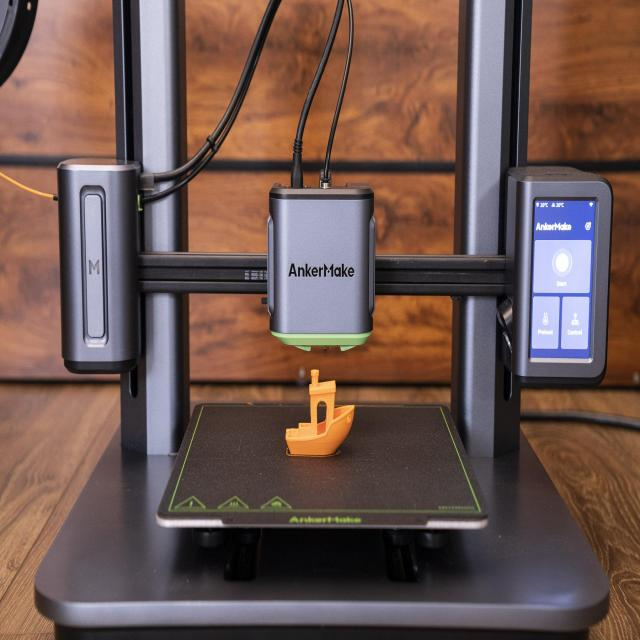Without deffect: (266, 365, 360, 470)
